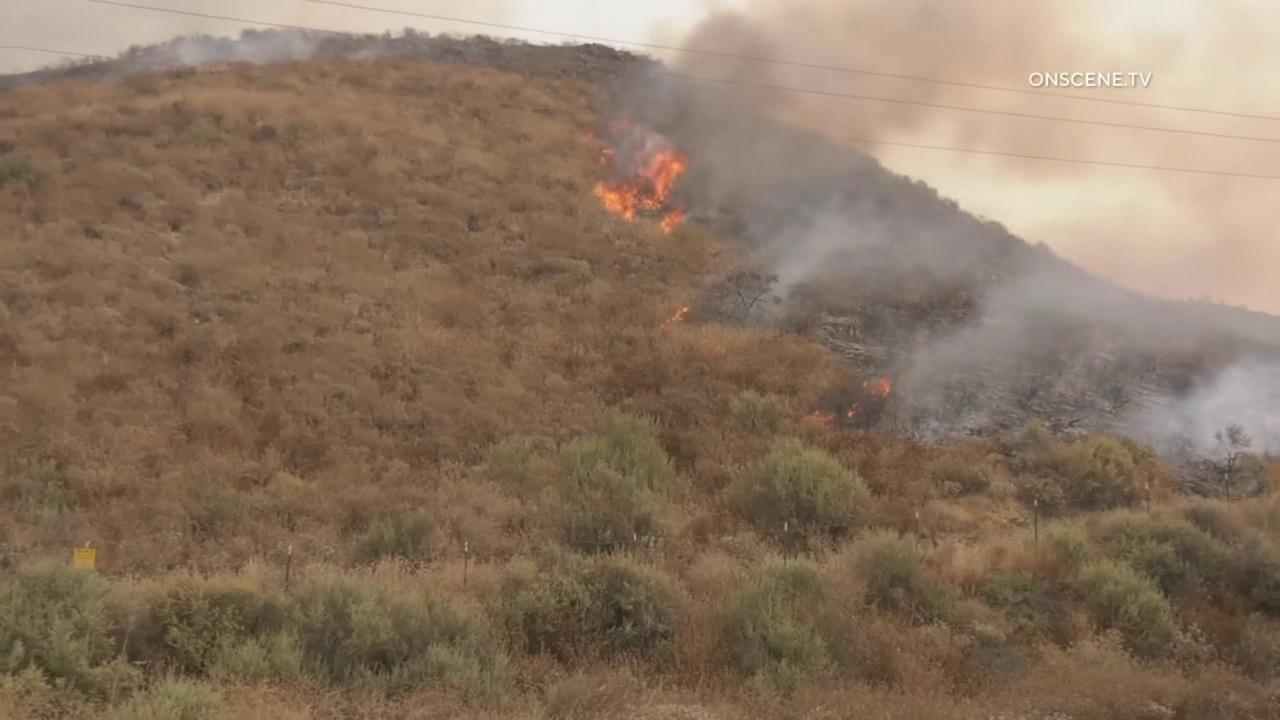fire: (592, 150, 686, 235), (659, 307, 689, 328), (872, 373, 893, 401), (848, 402, 861, 419), (600, 148, 613, 165), (587, 129, 595, 138), (862, 380, 868, 387)
smoke: (602, 0, 1280, 482), (0, 0, 414, 80)
